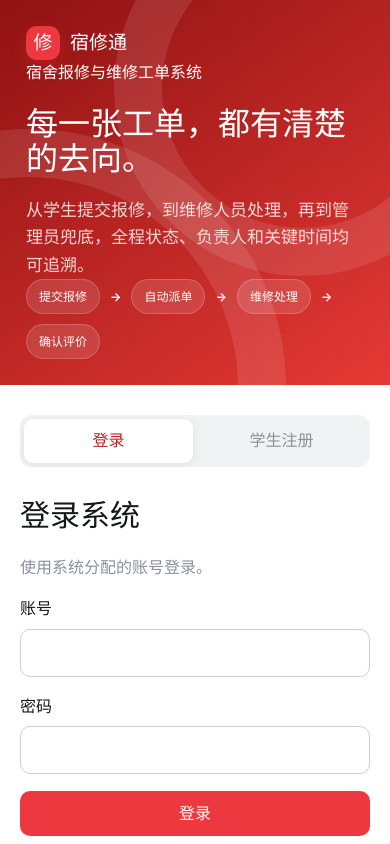
Test: 登录页 › 可以切换到学生注册表单
The width and height of the screenshot is (390, 844).
Click the tab with id "register-tab": [282, 441] box [197,419,366,463]
(page scrolled)
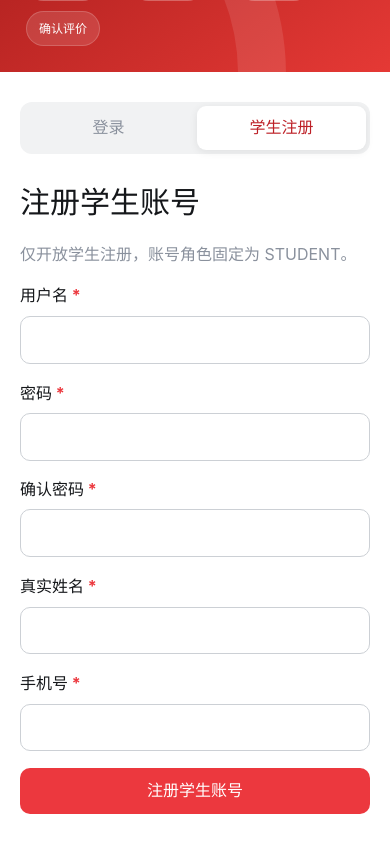
Now the panel with id "register-view" is shown
Now the panel with id "login-view" is gone
